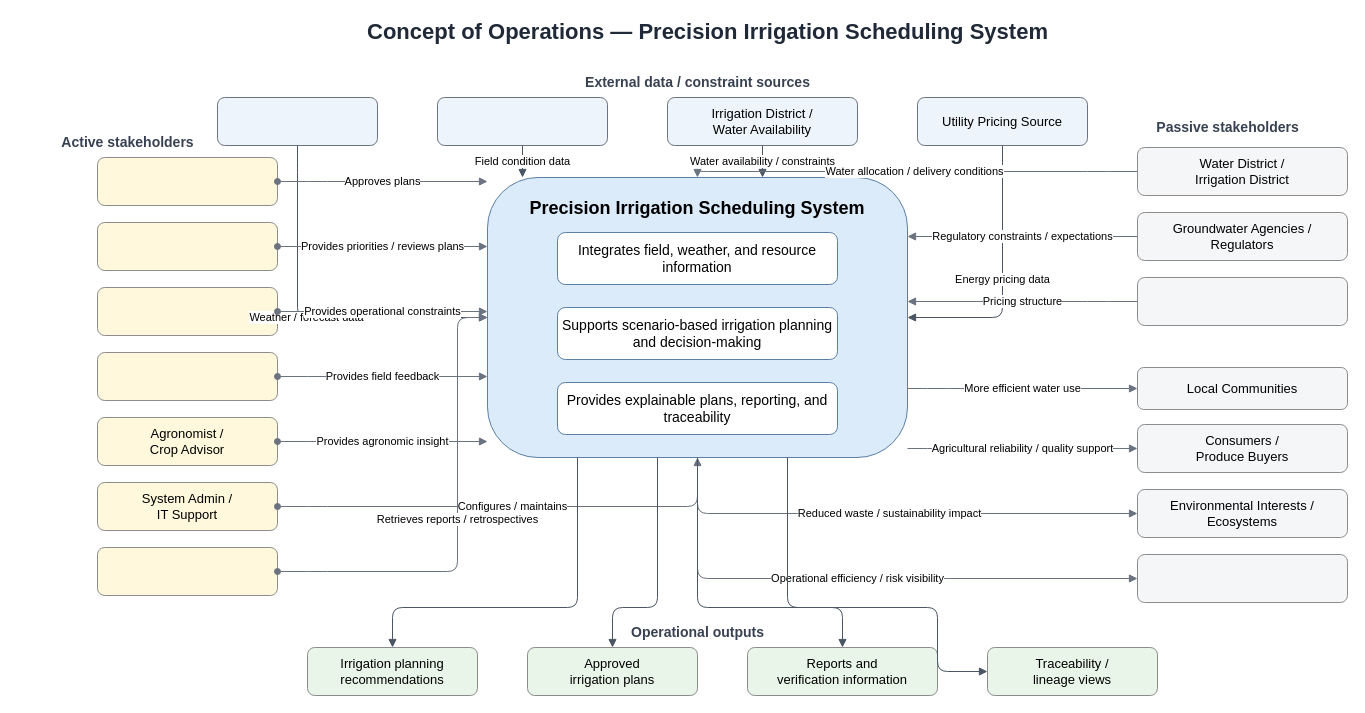
This 1365x713 diagram has some shape labels left out. Here are the shapes that lost their labels. From the top down, the centre of each, then its label:
At point (297, 121): "Weather Service".
At point (522, 121): "Soil Moisture / Sensor Platform".
At point (187, 181): "Grower / Farm Owner".
At point (187, 246): "Irrigation Manager".
At point (187, 311): "Farm Operations Manager".
At point (1242, 301): "Utility Providers / Energy Suppliers".
At point (187, 376): "Field Supervisor / Crew Lead".
At point (187, 571): "Data Analyst".
At point (1242, 578): "Investors / Business Partners".
